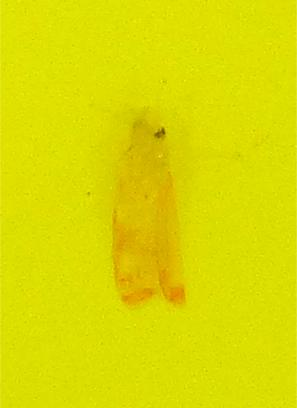Hemiptera: (100, 100, 197, 308)
